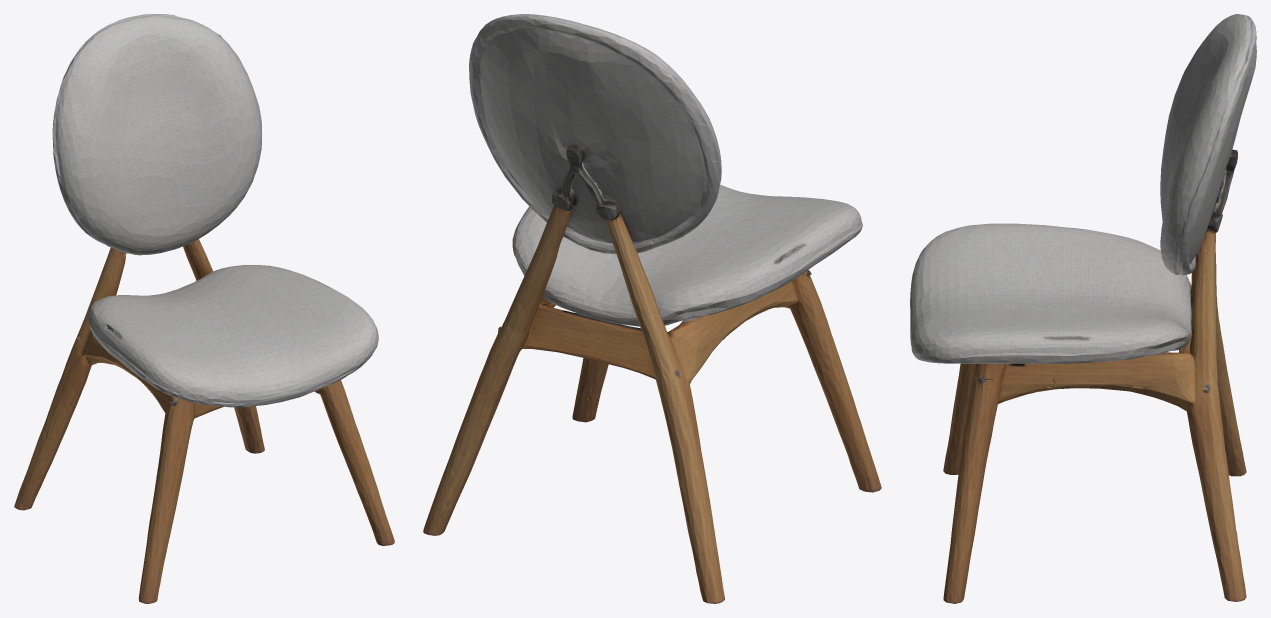
3 views of the same model, side by side, from view 1: azimuth 30°, elevation 25°; view 2: azimuth 150°, elevation 25°; view 3: azimuth 270°, elevation 25° (orthographic). The views are drawn at different scales.
Visible parts, largest first — view 1: world; view 2: world; view 3: world.
Boxes of the visible parts, bbox=[...] form: world: bbox=[14, 14, 394, 603]; world: bbox=[423, 14, 881, 603]; world: bbox=[910, 14, 1256, 603].
Bounding box in the file's own units: 0.5857 × 1 × 0.6238.
1 material, 1 textured.
